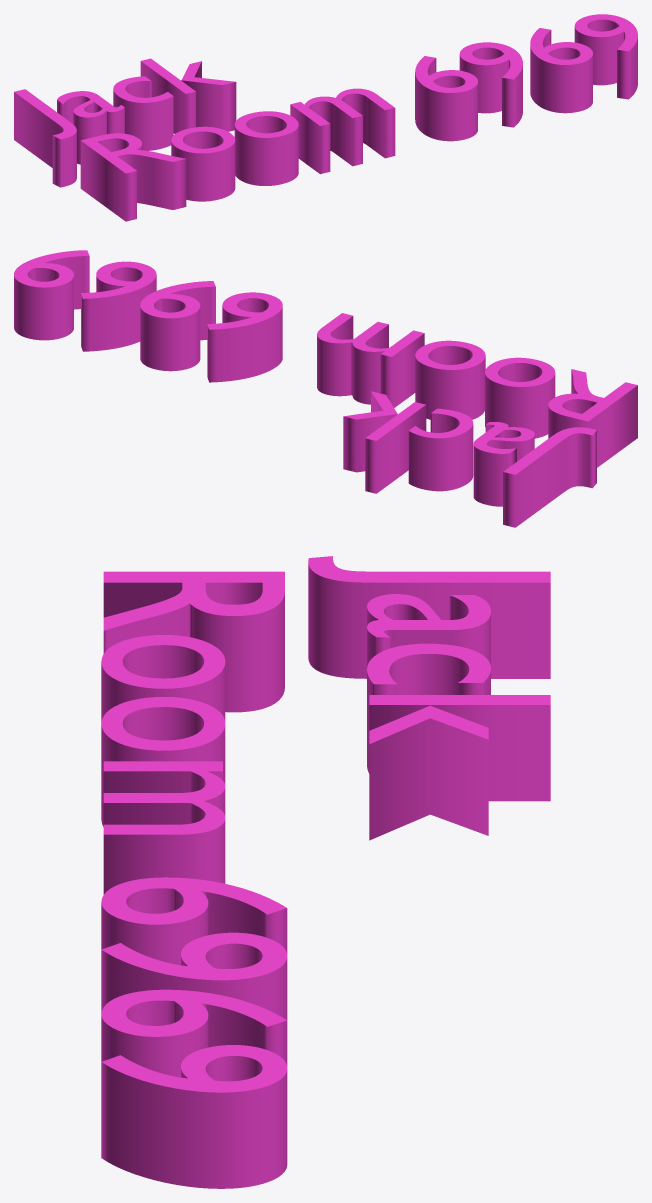
File: jack-6969.gltf
3 renders of one model, top to bottom at view 1: azimuth 30°, elevation 25°; view 2: azimuth 150°, elevation 25°; view 3: azimuth 270°, elevation 25°, orthographic. The views are drawn at different scales.
Visible parts, largest first — view 1: Text; view 2: Text; view 3: Text.
Part boxes in pixels (bbox=[...]): Text: bbox=[14, 14, 637, 221]; Text: bbox=[14, 250, 637, 527]; Text: bbox=[101, 556, 550, 1188].
Bounding box in the file's own units: 4.78 × 0.4 × 1.69.
